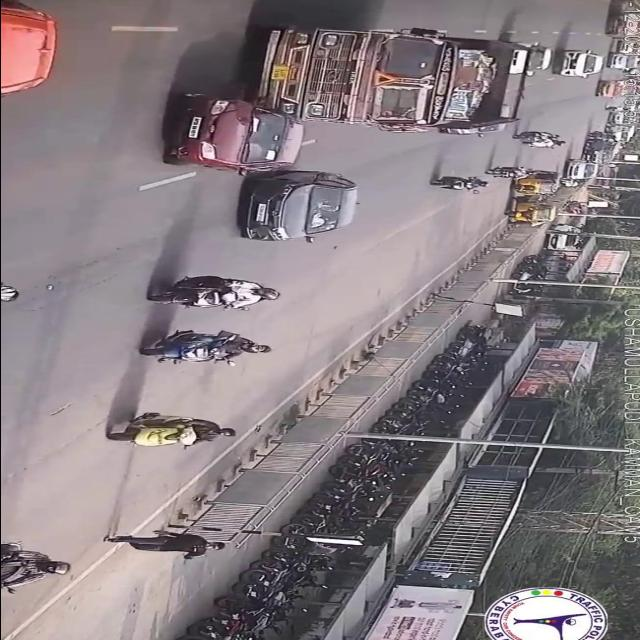accident: (158, 25, 534, 171)
non_accident: (562, 133, 621, 190), (512, 126, 569, 150)
